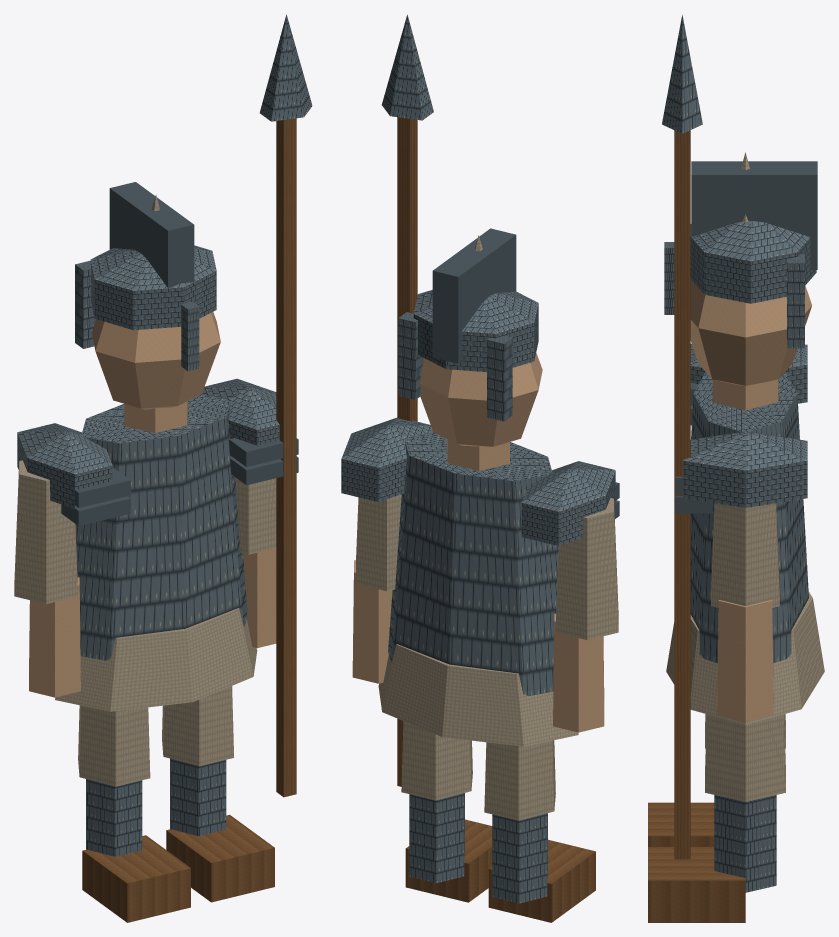
File: unit-SPEAR-lod1.glb
3 views of the same model, side by side, from view 1: azimuth 30°, elevation 25°; view 2: azimuth 150°, elevation 25°; view 3: azimuth 270°, elevation 25° (orthographic). The views are drawn at different scales.
Bounding box in the file's own units: 0.187 × 0.565 × 0.098.
Materials: 1 (1 with a texture image).
